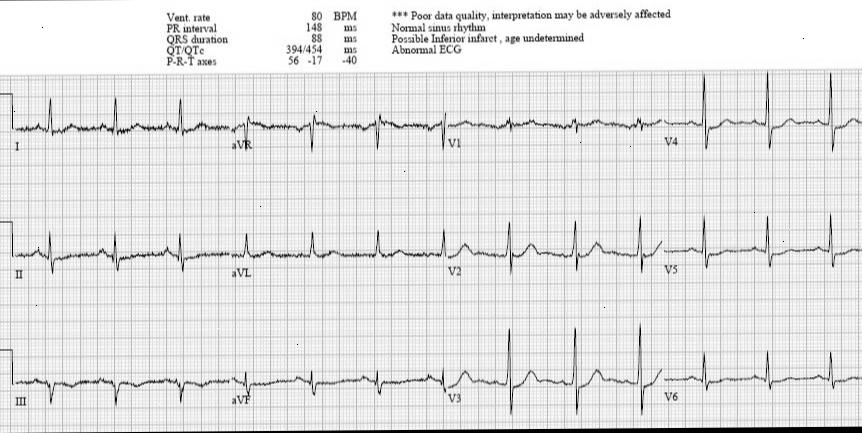Lead_I: (11, 92, 232, 165)
Lead_II: (10, 220, 232, 295)
Lead_III: (12, 352, 230, 422)
Lead_V1: (444, 101, 662, 156)
Lead_V2: (447, 213, 665, 285)
Lead_V3: (444, 317, 665, 419)
Lead_V4: (664, 71, 862, 168)
Lead_V5: (663, 206, 862, 284)
Lead_V6: (662, 342, 862, 413)
Lead_aVF: (231, 356, 448, 410)
Lead_aVL: (232, 218, 447, 286)
Lead_aVR: (232, 95, 443, 162)
